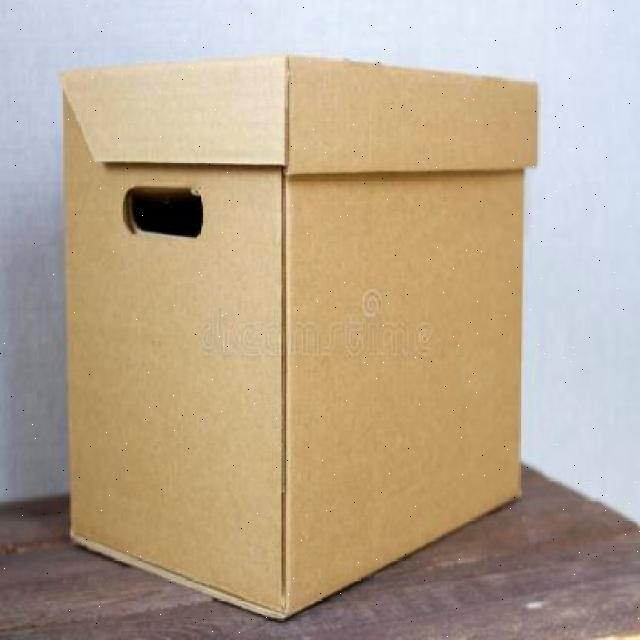box: (59, 50, 540, 621)
normal_hole: (122, 186, 204, 239)
